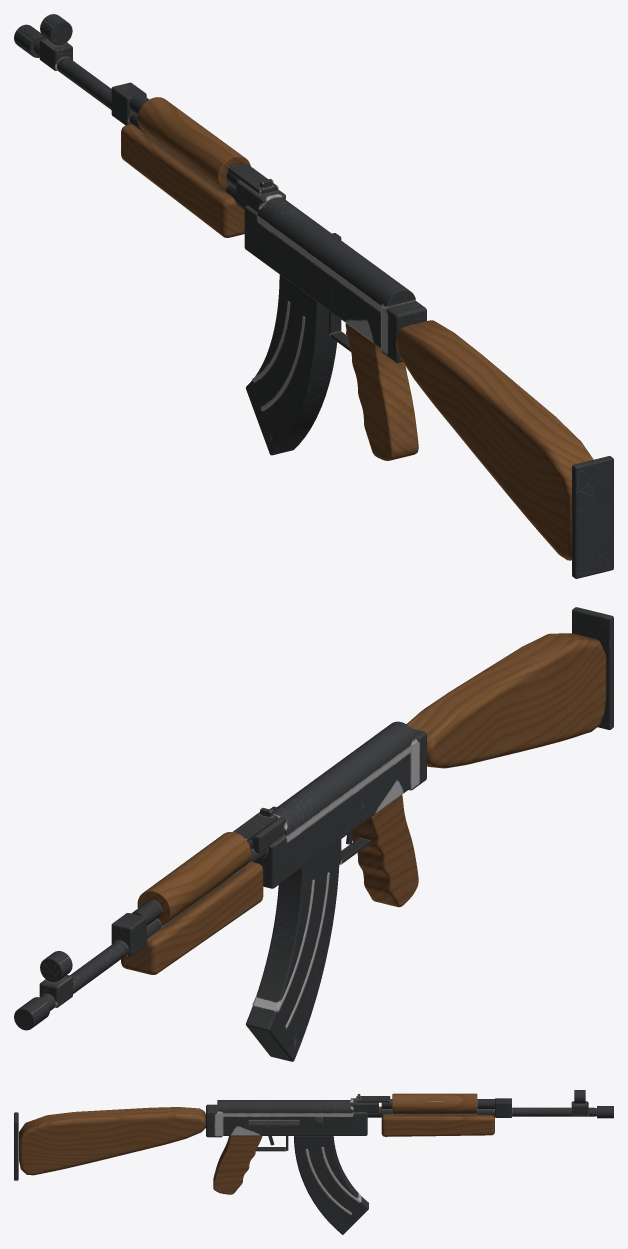
3 views of the same model, one above another, from view 1: azimuth 30°, elevation 25°; view 2: azimuth 150°, elevation 25°; view 3: azimuth 270°, elevation 25° (orthographic). The views are drawn at different scales.
Visible parts, largest first — view 1: Frame, Stock, Mag_body; view 2: Frame, Stock, Mag_body; view 3: Frame, Stock, Mag_body.
Boxes of the visible parts, bbox=[...] form: Frame: bbox=[14, 14, 613, 578]; Stock: bbox=[396, 320, 593, 560]; Mag_body: bbox=[246, 274, 337, 455]; Frame: bbox=[14, 607, 613, 1030]; Stock: bbox=[406, 633, 606, 768]; Mag_body: bbox=[246, 840, 339, 1061]; Frame: bbox=[14, 1090, 613, 1194]; Stock: bbox=[19, 1107, 205, 1175]; Mag_body: bbox=[294, 1136, 368, 1234].
Bounding box in the file's own units: 0.0589 × 0.2756 × 1.06.
4 materials, 4 textured.
